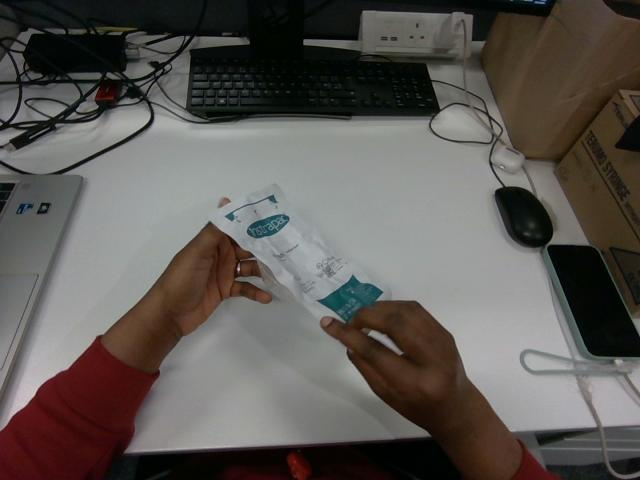gallipot: (211, 184, 389, 321)
